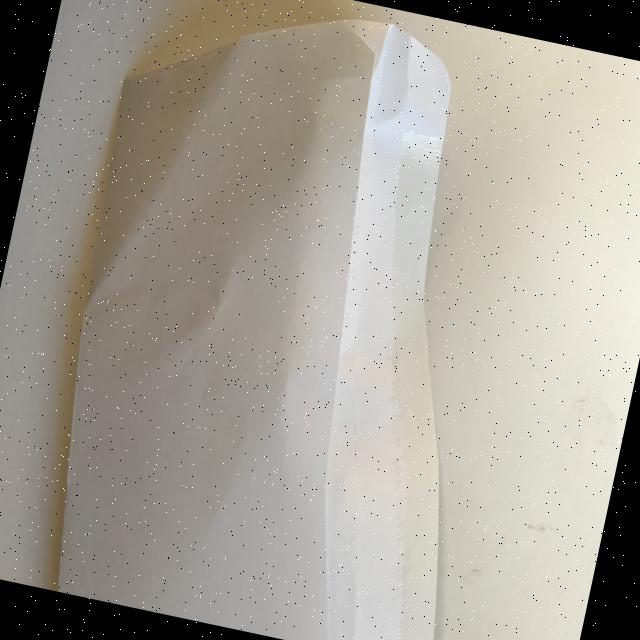paper: (16, 0, 561, 640)
